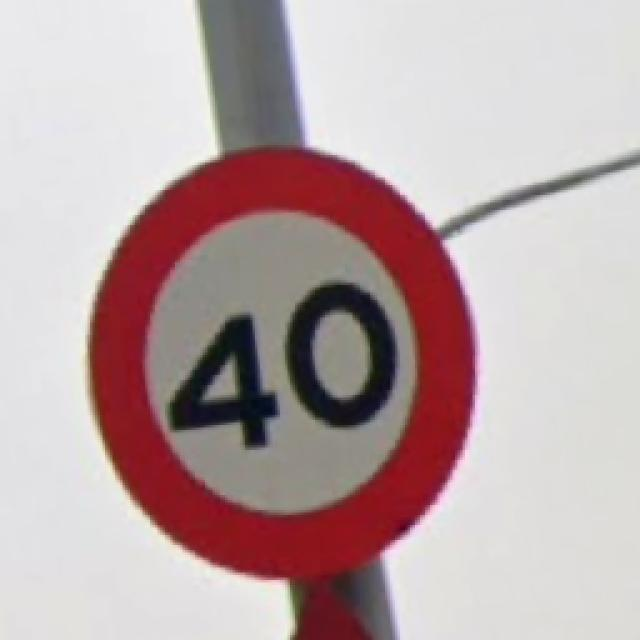Speed Limit -40-: (90, 150, 472, 575)
